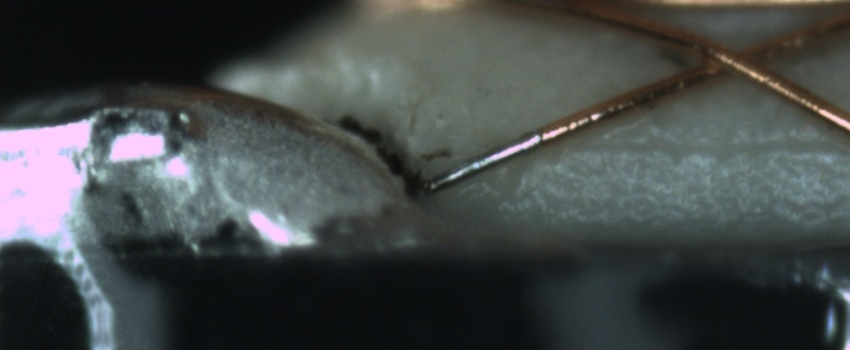CL: (666, 31, 798, 89)
DL: (557, 117, 850, 181)
TS: (422, 129, 543, 197)
